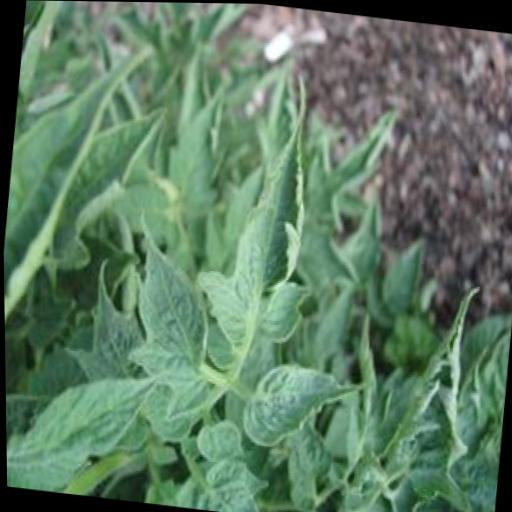Mosaic Virus: (195, 92, 324, 364), (110, 213, 230, 397), (4, 360, 156, 499), (235, 350, 366, 461), (190, 420, 246, 464)
